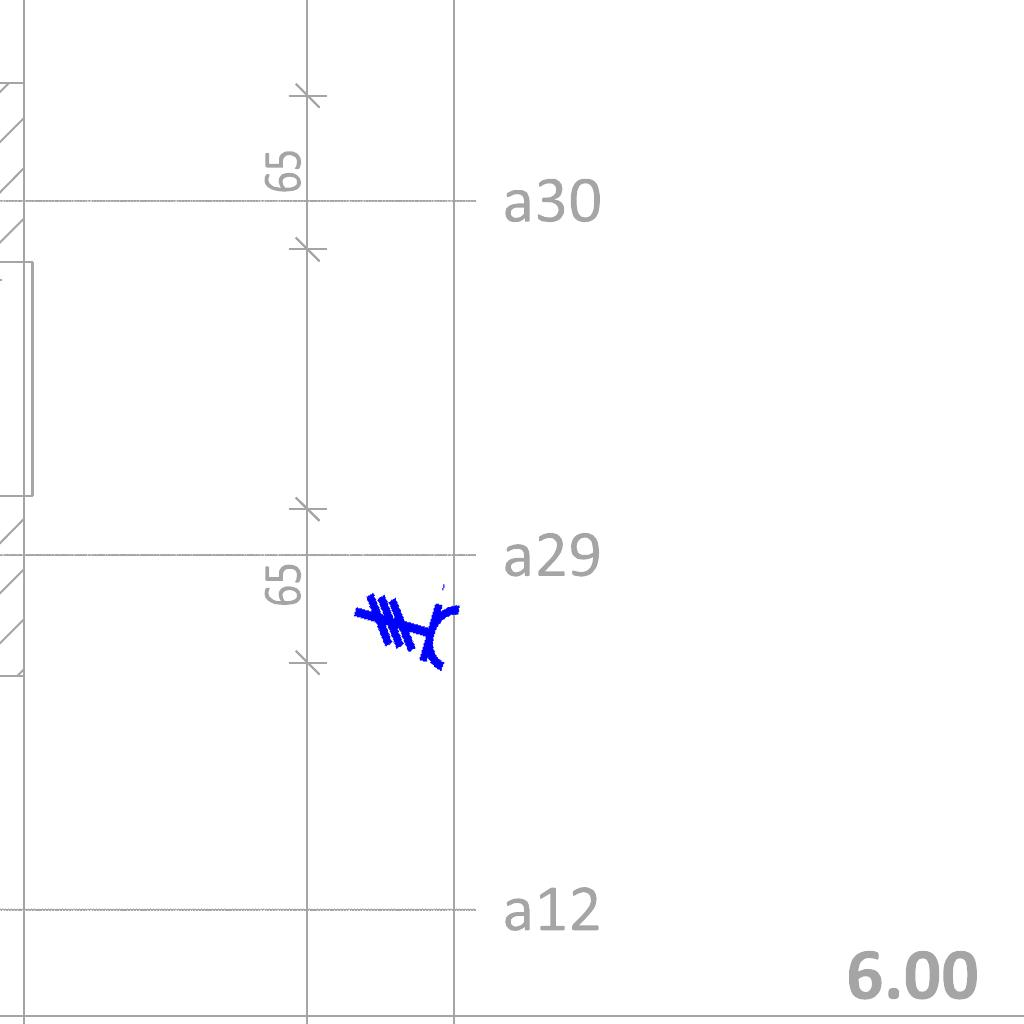CEE_Drehstrom_Steckdose_16_32_A: (343, 559, 469, 675)
